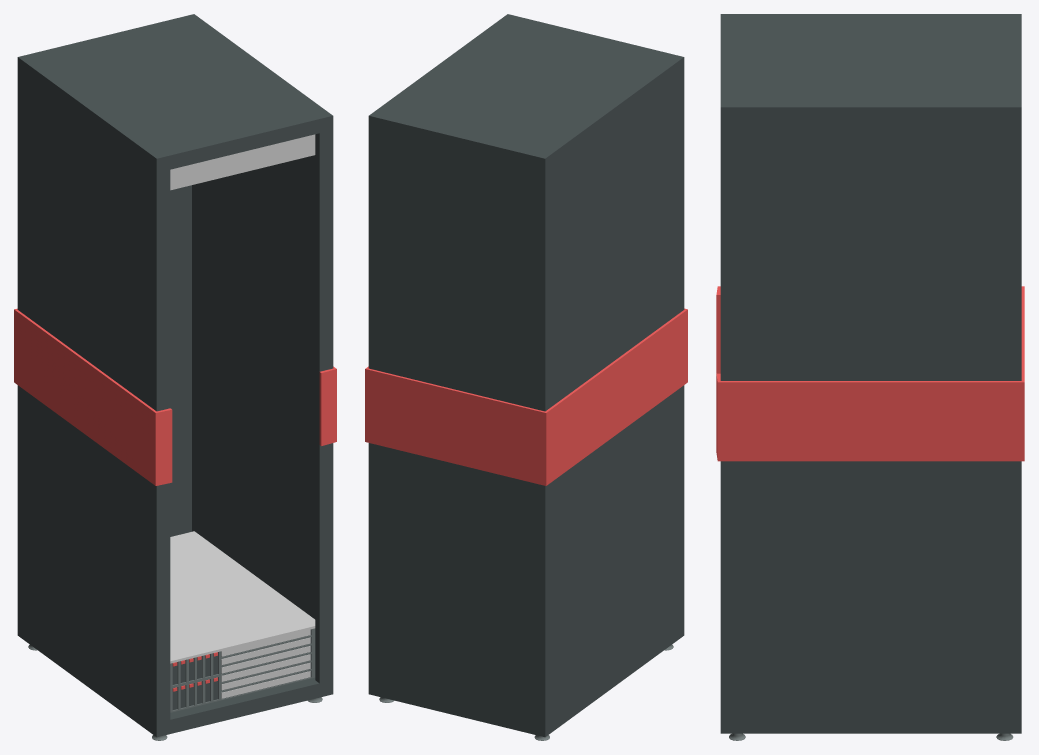
Rendered from server_lvl1.glb.
The picture shows the model from 3 angles, left to right: view 1: azimuth 30°, elevation 25°; view 2: azimuth 150°, elevation 25°; view 3: azimuth 270°, elevation 25°; orthographic projection. The views are drawn at different scales.
Parts seen in each view (by area): view 1: feet, tray2; view 2: feet; view 3: feet.
Boxes of the visible parts, <box> form: feet: <box>14,14,336,740</box>; tray2: <box>170,531,315,712</box>; feet: <box>365,14,687,740</box>; feet: <box>716,14,1024,740</box>.
Size of the model in its own units: 0.1535 by 0.4757 by 0.2089.
2 materials, 1 textured.
